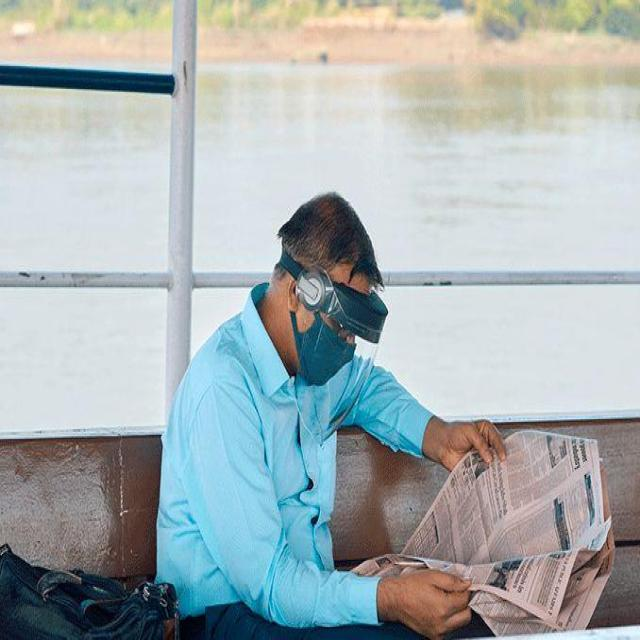Mask: (293, 317, 356, 392)
